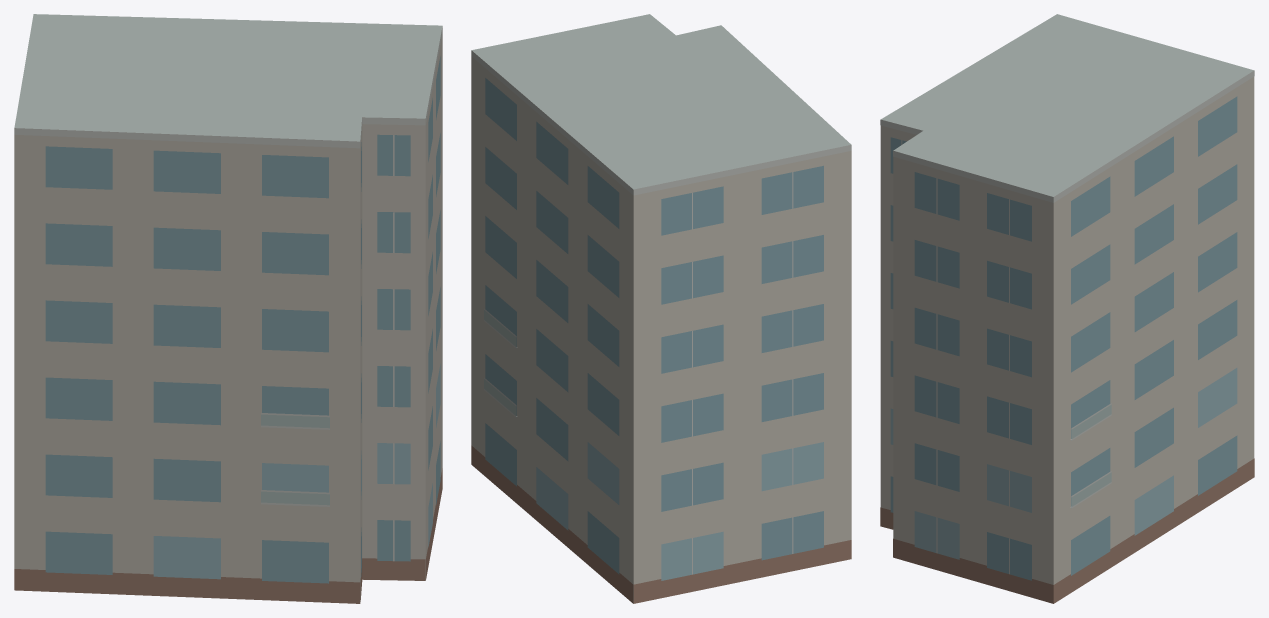
Rendered from survey-upis-32915589.glb.
The picture shows the model from 3 angles, left to right: view 1: azimuth 30°, elevation 25°; view 2: azimuth 150°, elevation 25°; view 3: azimuth 270°, elevation 25°; orthographic projection. The views are drawn at different scales.
Parts seen in each view (by area): view 1: survey-upis-32915589.tmp; view 2: survey-upis-32915589.tmp; view 3: survey-upis-32915589.tmp.
Part boxes in pixels (x1,y1,x2,y2): survey-upis-32915589.tmp: (14, 14, 442, 603); survey-upis-32915589.tmp: (471, 14, 851, 603); survey-upis-32915589.tmp: (880, 14, 1254, 603).
Bounding box in the file's own units: 16.17 × 16.75 × 13.96.
